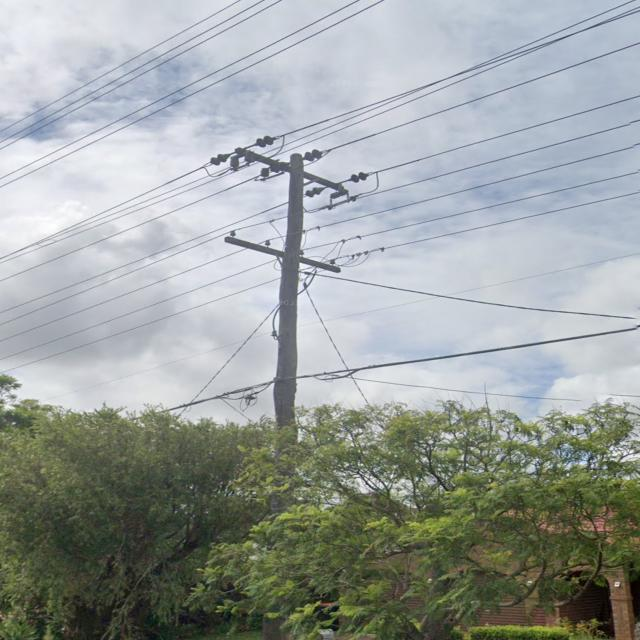HV-transmission: (210, 136, 373, 198)
crossarm: (238, 145, 347, 189), (226, 237, 340, 271)
timber-pole: (274, 150, 301, 429)
